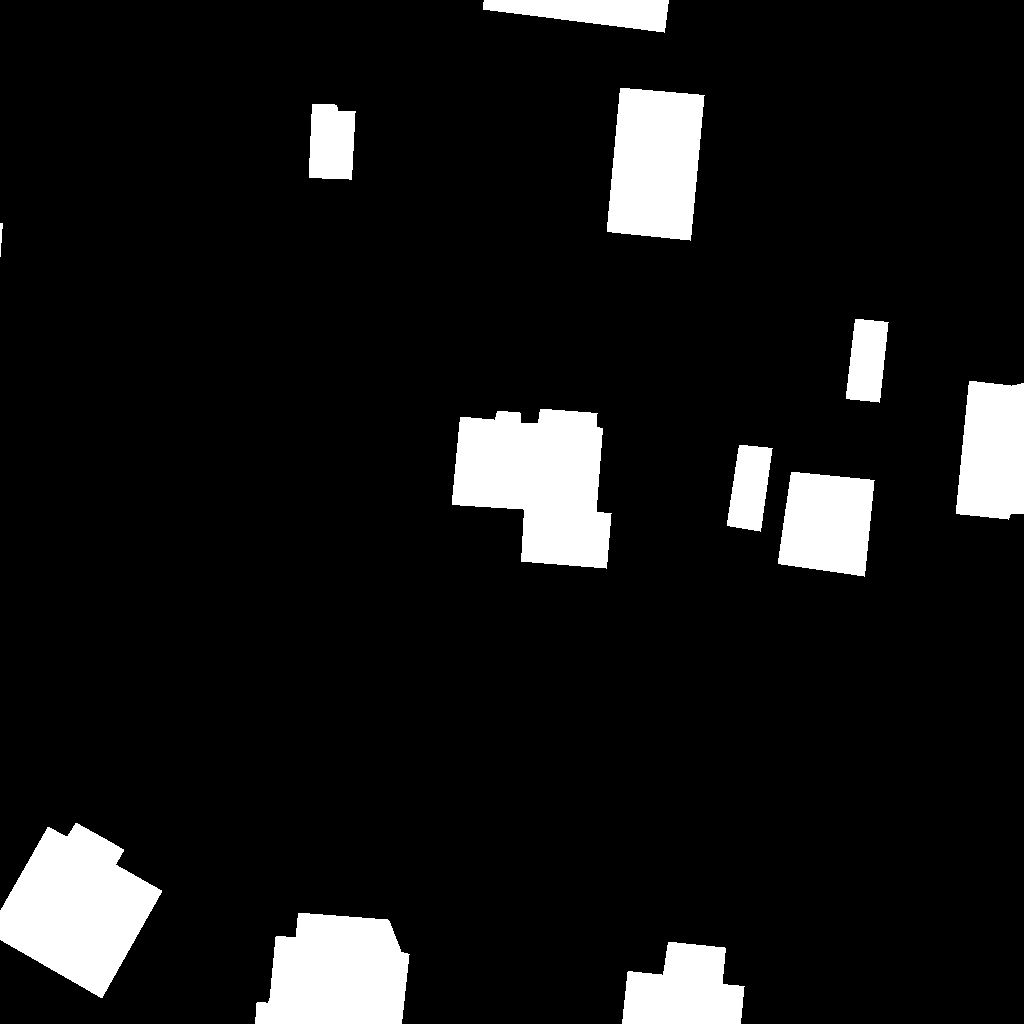building: (0, 823, 163, 999), (452, 409, 612, 569), (255, 913, 410, 1024), (607, 88, 705, 241), (778, 472, 875, 577), (622, 942, 745, 1024), (956, 381, 1024, 520), (483, 0, 670, 33), (727, 445, 773, 532), (846, 319, 889, 403), (309, 104, 356, 180), (0, 223, 4, 264), (27, 0, 42, 2)
